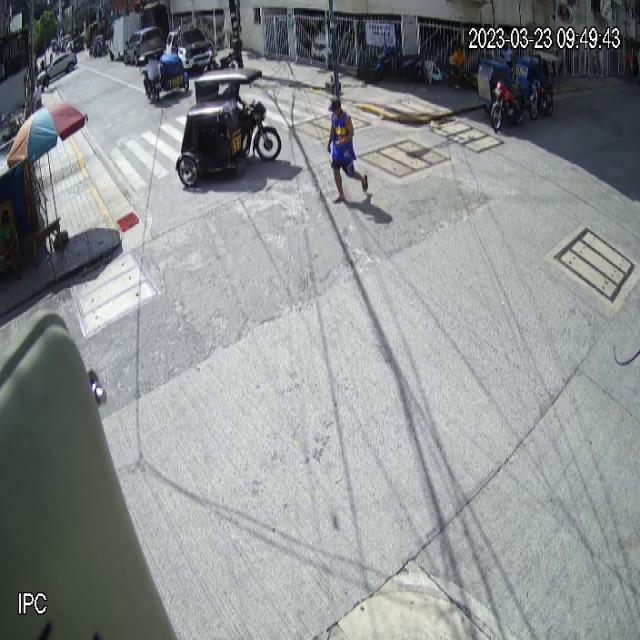Tricycle: (175, 68, 282, 187)
